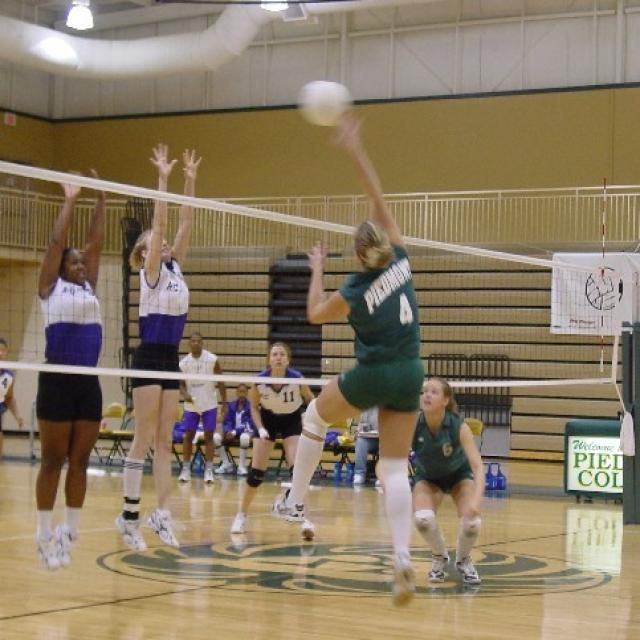volleyball: (297, 82, 353, 126)
